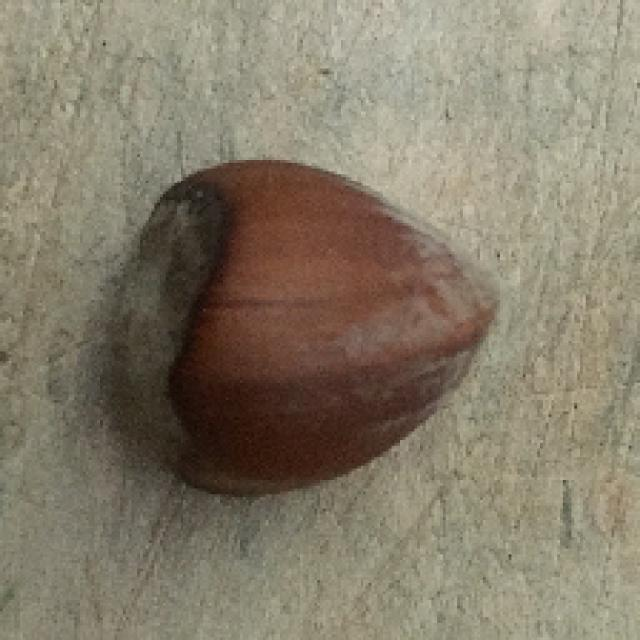qualityHazelnut: (110, 156, 500, 508)
